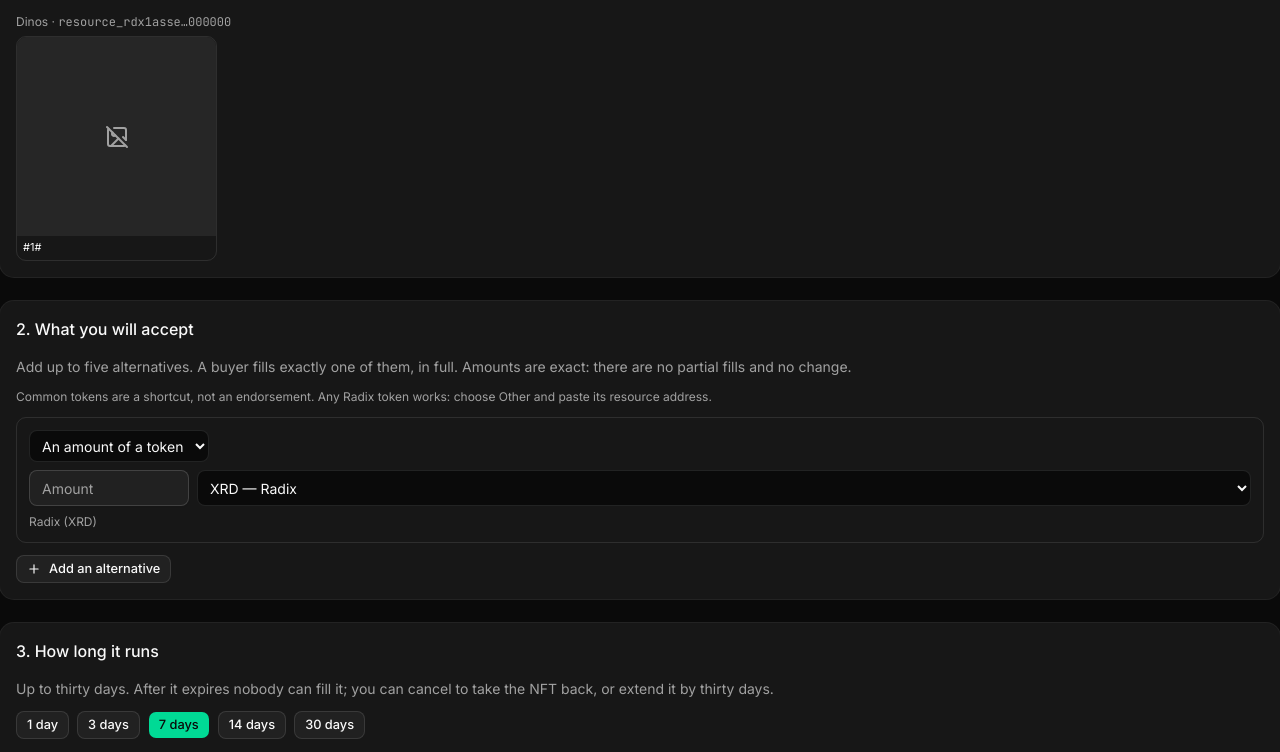
it: recall guard — list form › a locked-deny collection can still be listed
Step 1. Click the button "#1#" → (117, 148), box [16,36,217,261]
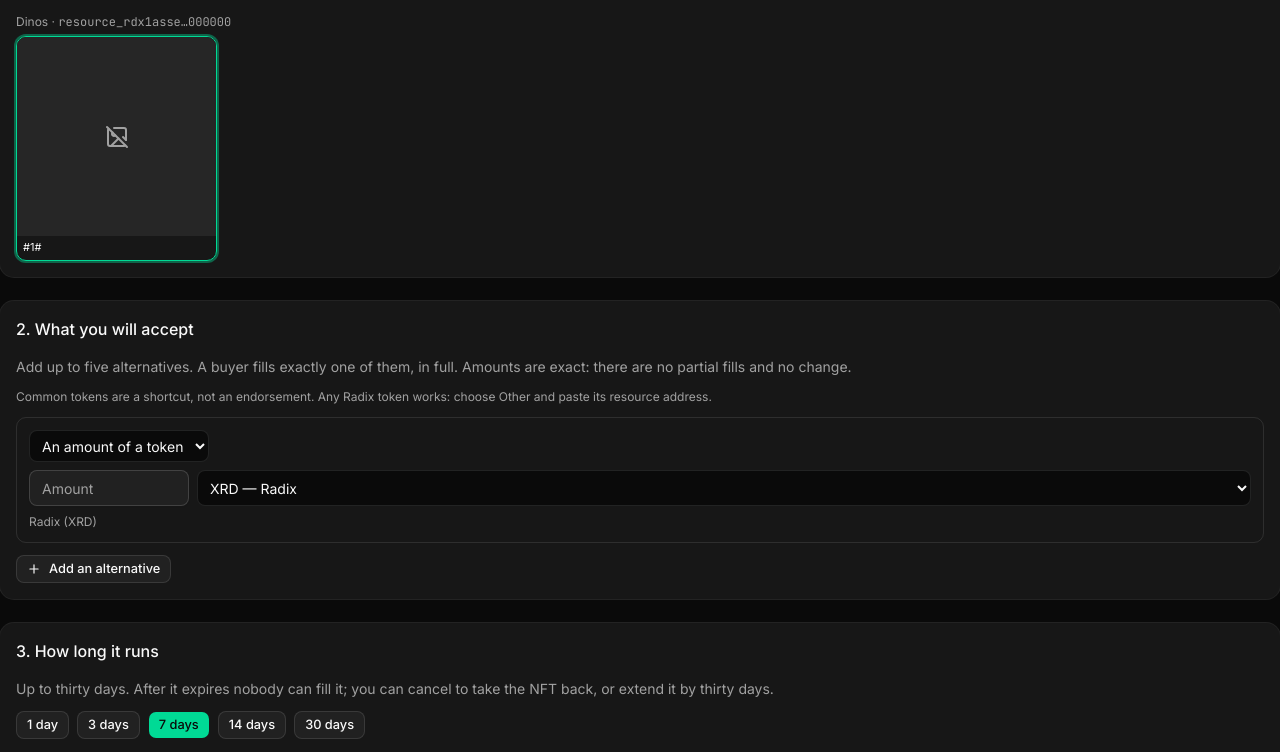
Step 2. Type "5" into the field named "Alternative 1 amount" → (109, 488), box [29,470,189,506]
(page scrolled)
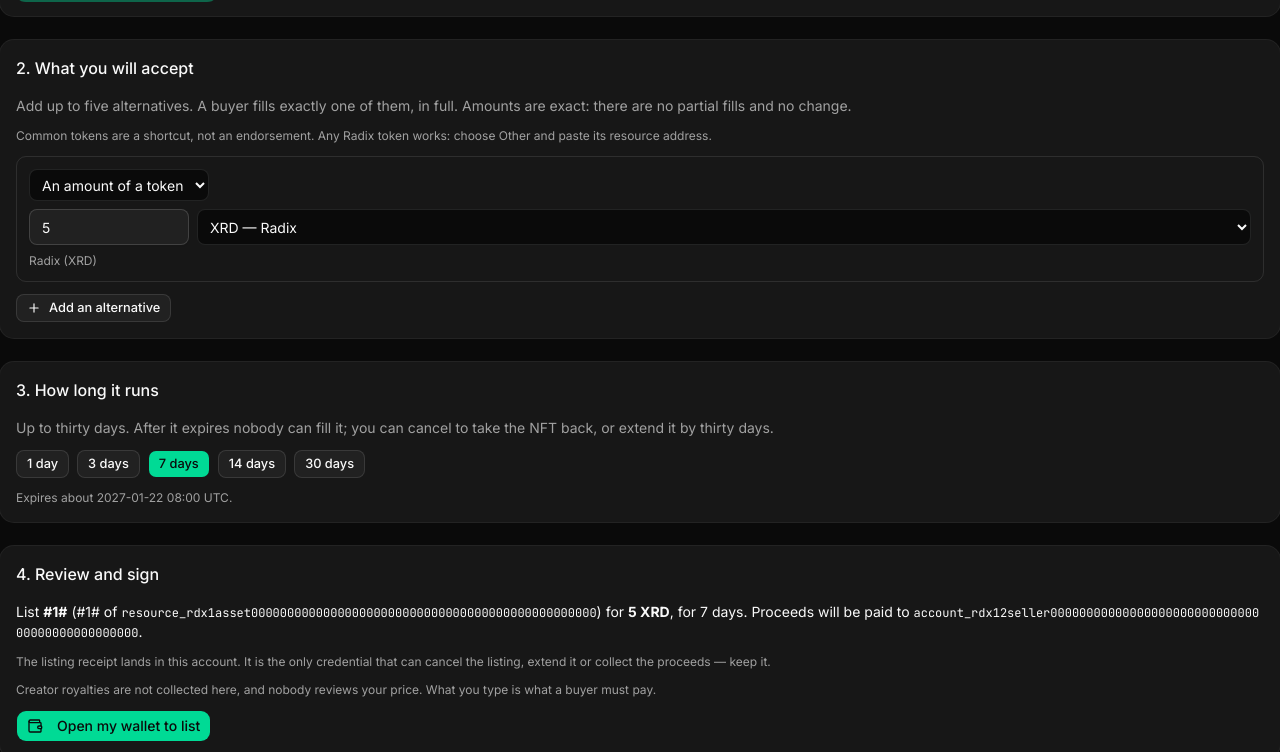
Check: the button "Open my wallet to list" is enabled, box [16,710,211,742]
